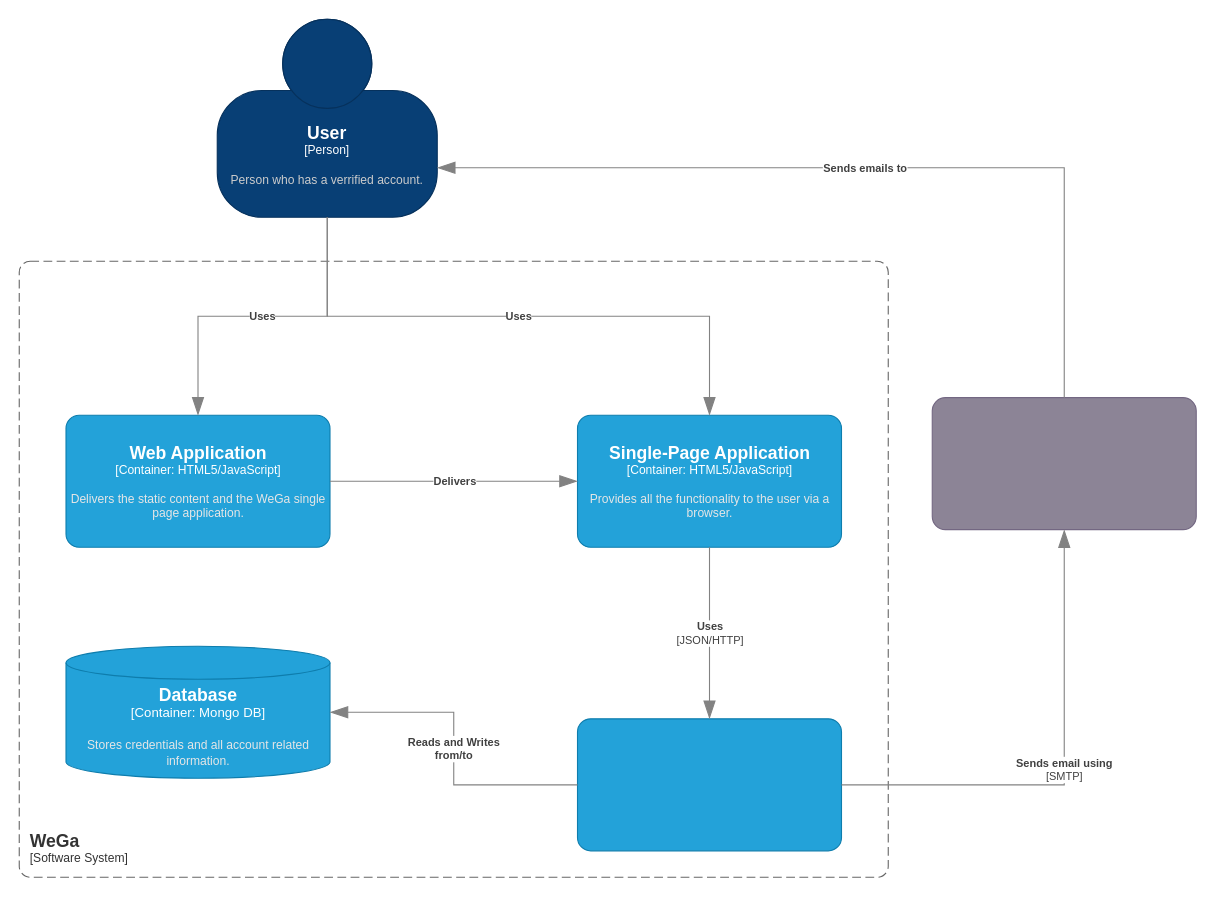
Some shapes in this 1216 by 897 pixel diagram are drawn without their labels. Each missing label, with the box of its shape:
API Application [Container: Node JS] Provides functionality via JSON/HTTP.: (576, 718, 842, 851)
Email System [Software System] Microsoft Email Service: (931, 397, 1196, 530)
